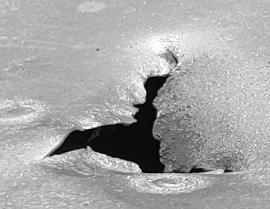crack: (0, 1, 270, 209)
